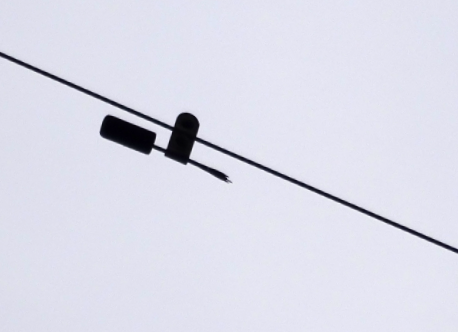damper_defect: (95, 109, 236, 187)
